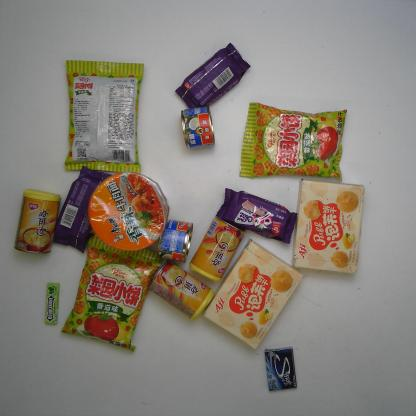Canned Food: (150, 258, 217, 323), (189, 213, 248, 285), (14, 188, 62, 255), (154, 217, 194, 264), (179, 104, 217, 151)
Dessert: (202, 238, 306, 350), (290, 176, 367, 276), (50, 163, 117, 255), (174, 40, 251, 114), (215, 186, 299, 246)
Gum: (262, 346, 299, 392), (44, 281, 62, 326)
Instant Noodles: (87, 171, 171, 252)
Puffed Food: (58, 229, 166, 352), (63, 59, 144, 174), (238, 102, 348, 182)
